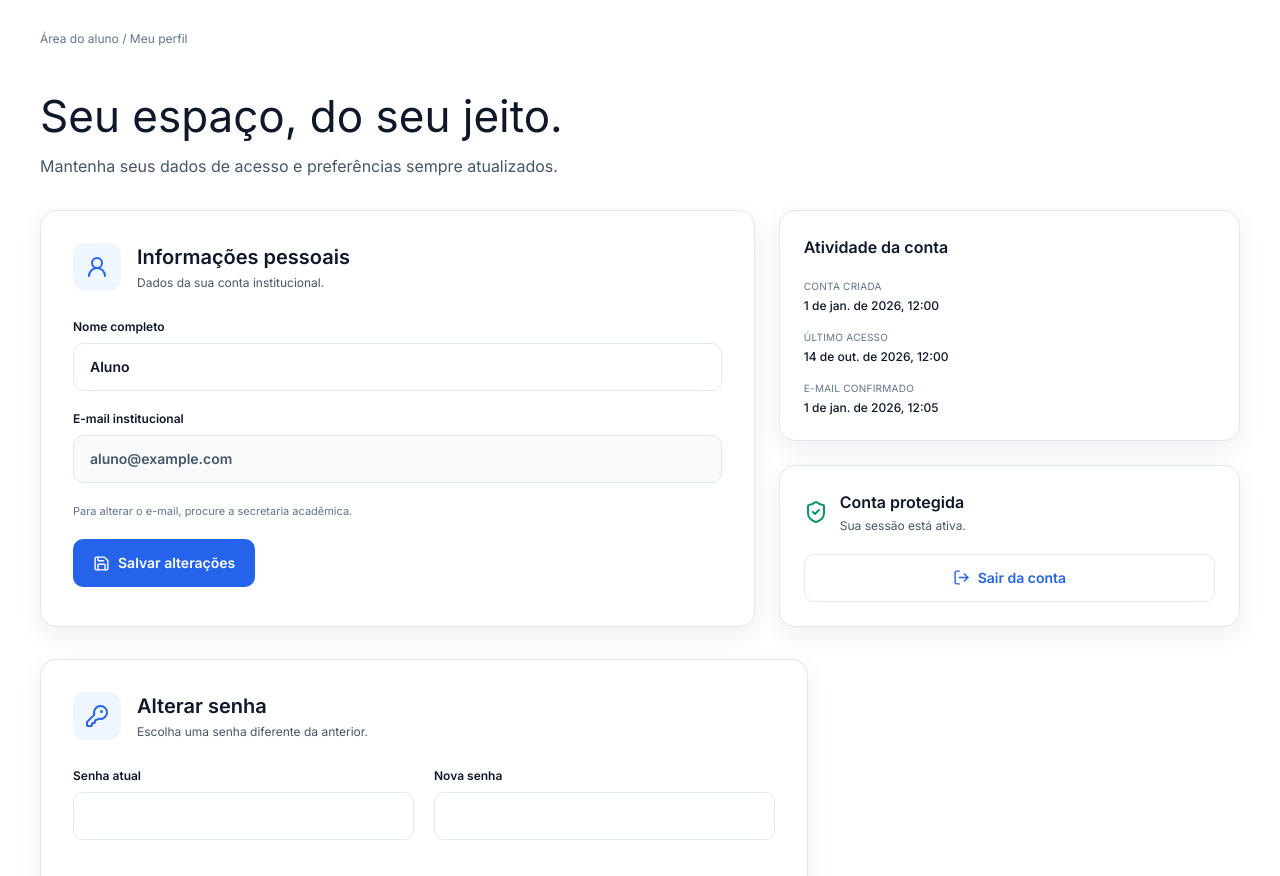
Test: atualiza dados e senha do perfil autenticado
The width and height of the screenshot is (1280, 876).
Replace the text in the field labelled "Nome completo" with "Aluno Atualizado": (397, 367) 73,343 -> 722,391
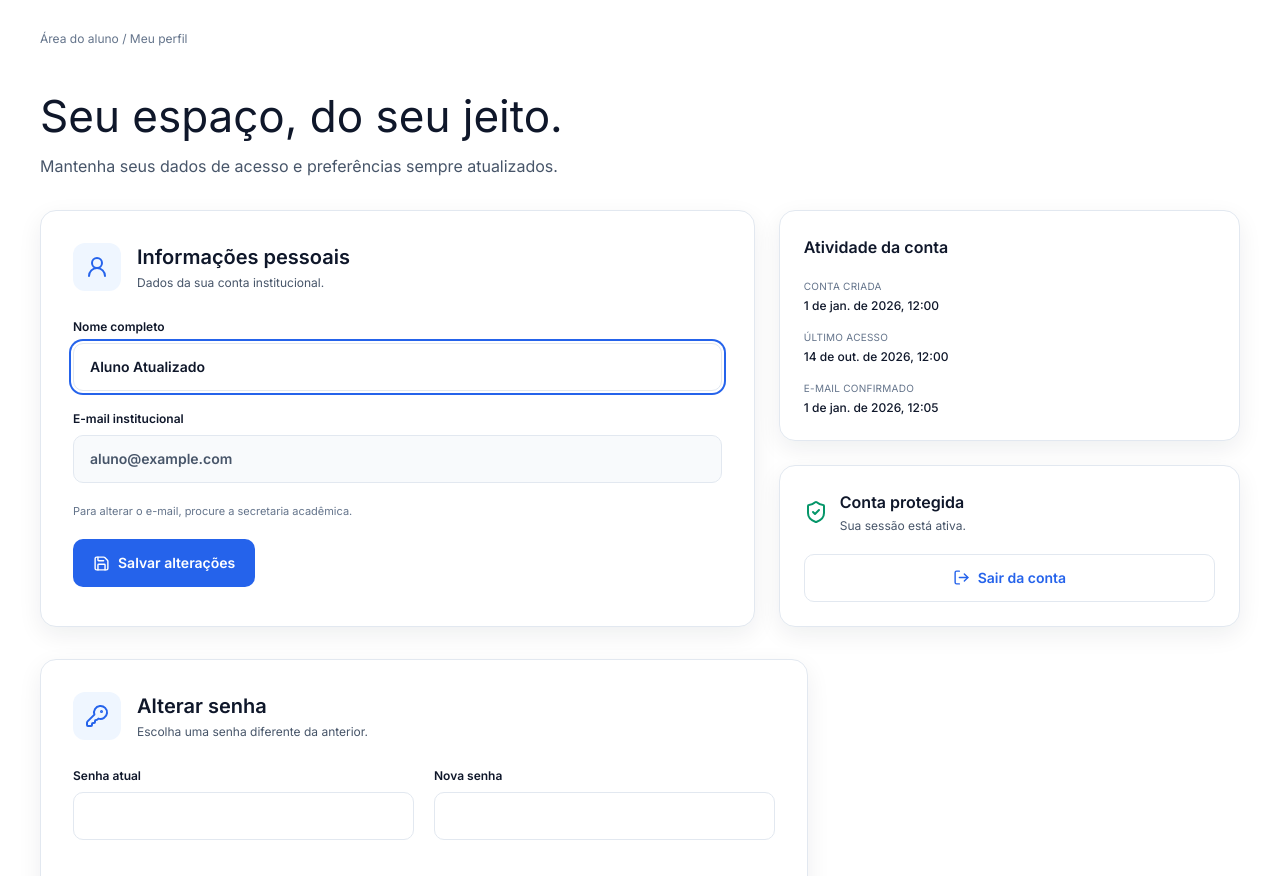
Click the button "Salvar alterações": (164, 563) 73,539 -> 255,587
(page scrolled)
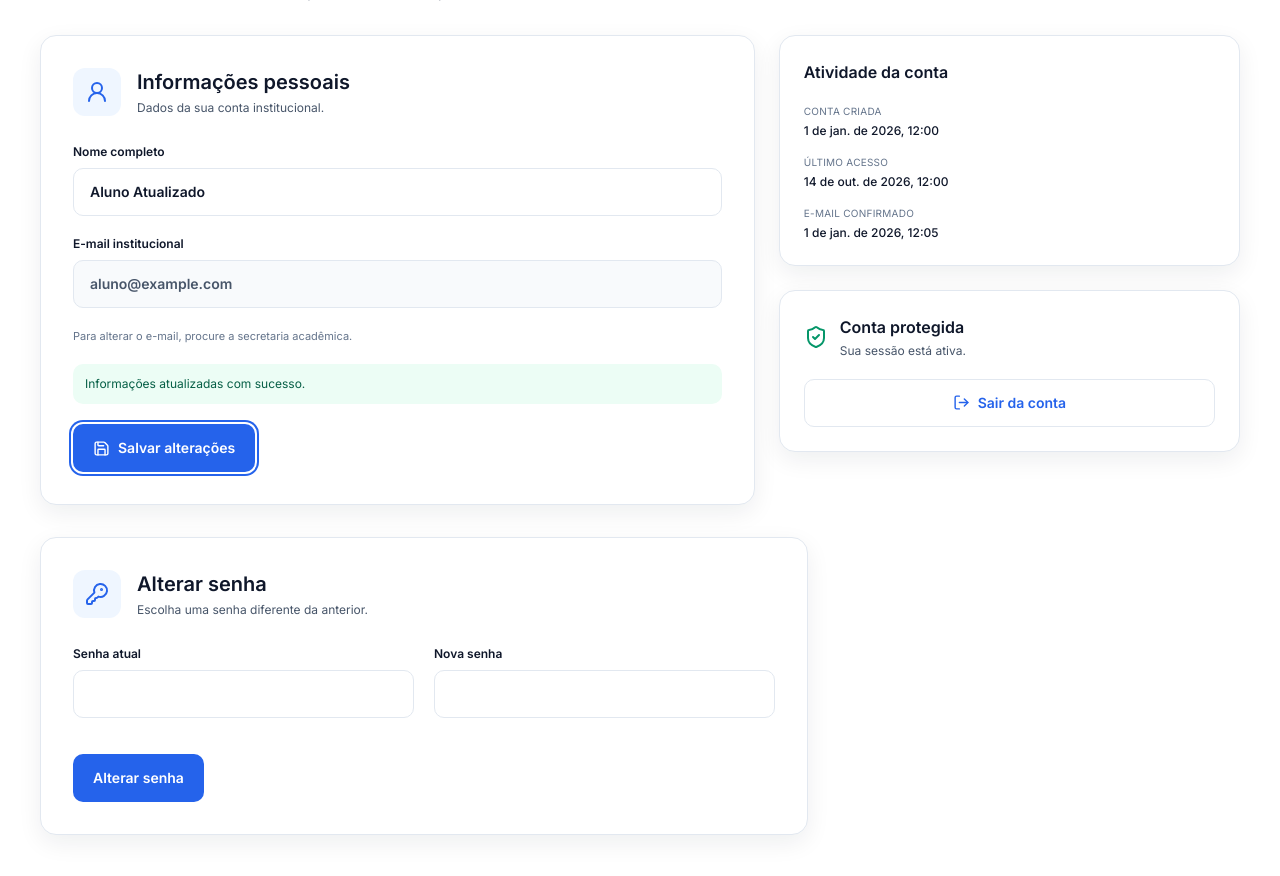
Check: the text "Informações atualizadas com sucesso." is shown, box 73,364 -> 722,404
In the password field labelled "Senha atual": (244, 694) 73,670 -> 414,718, type "senhaAnterior"
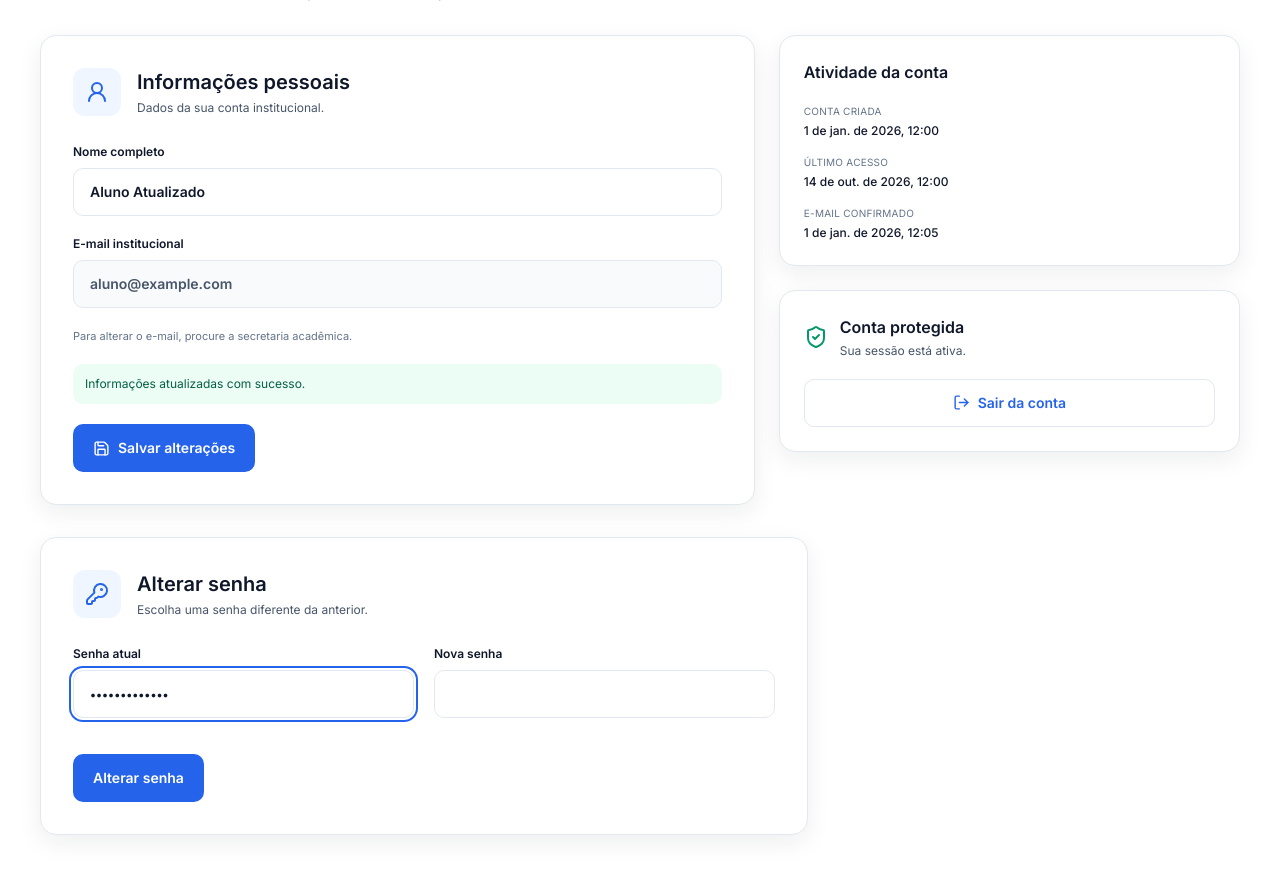
In the password field labelled "Nova senha": (604, 694) 434,670 -> 775,718, type "novaSenha123"
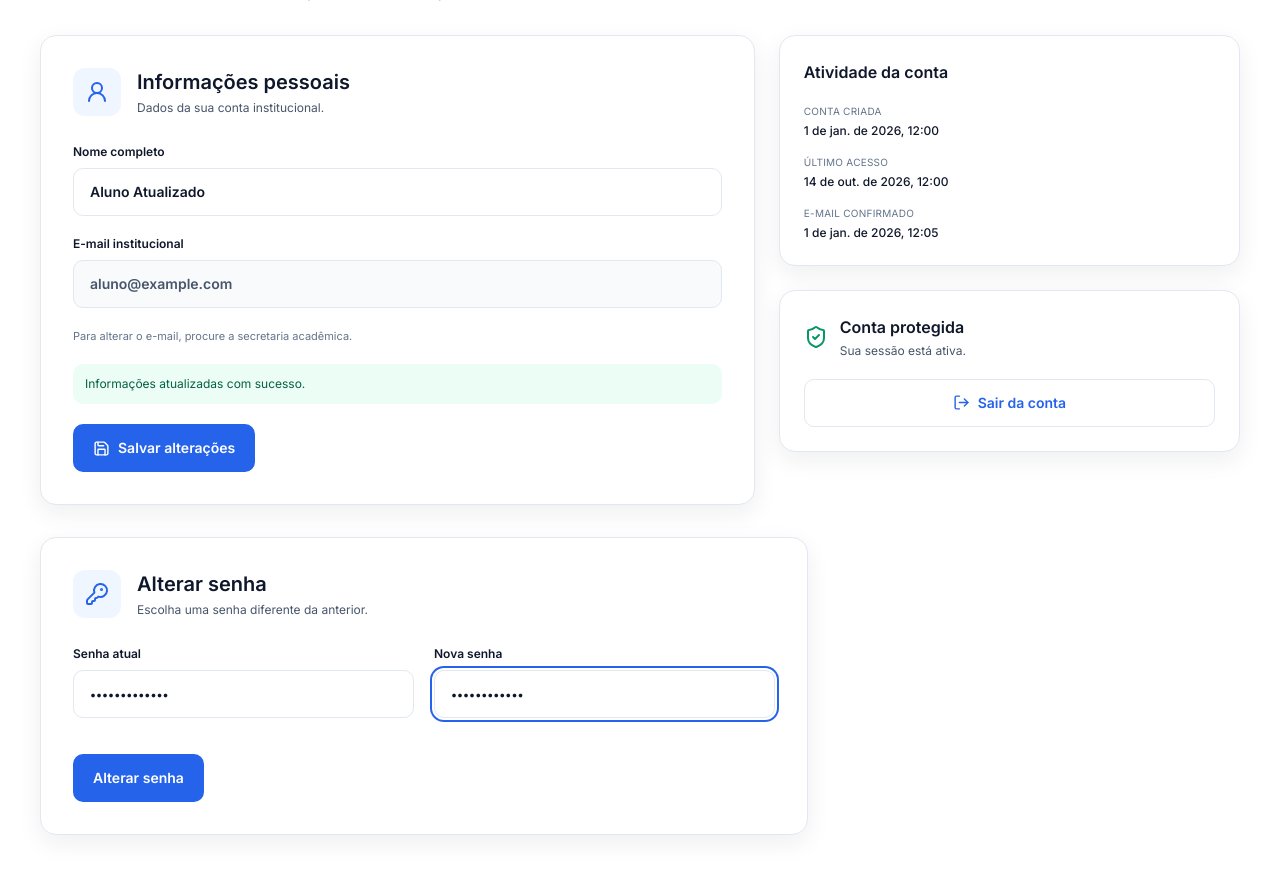
Click the button "Alterar senha": (138, 778) 73,754 -> 204,802
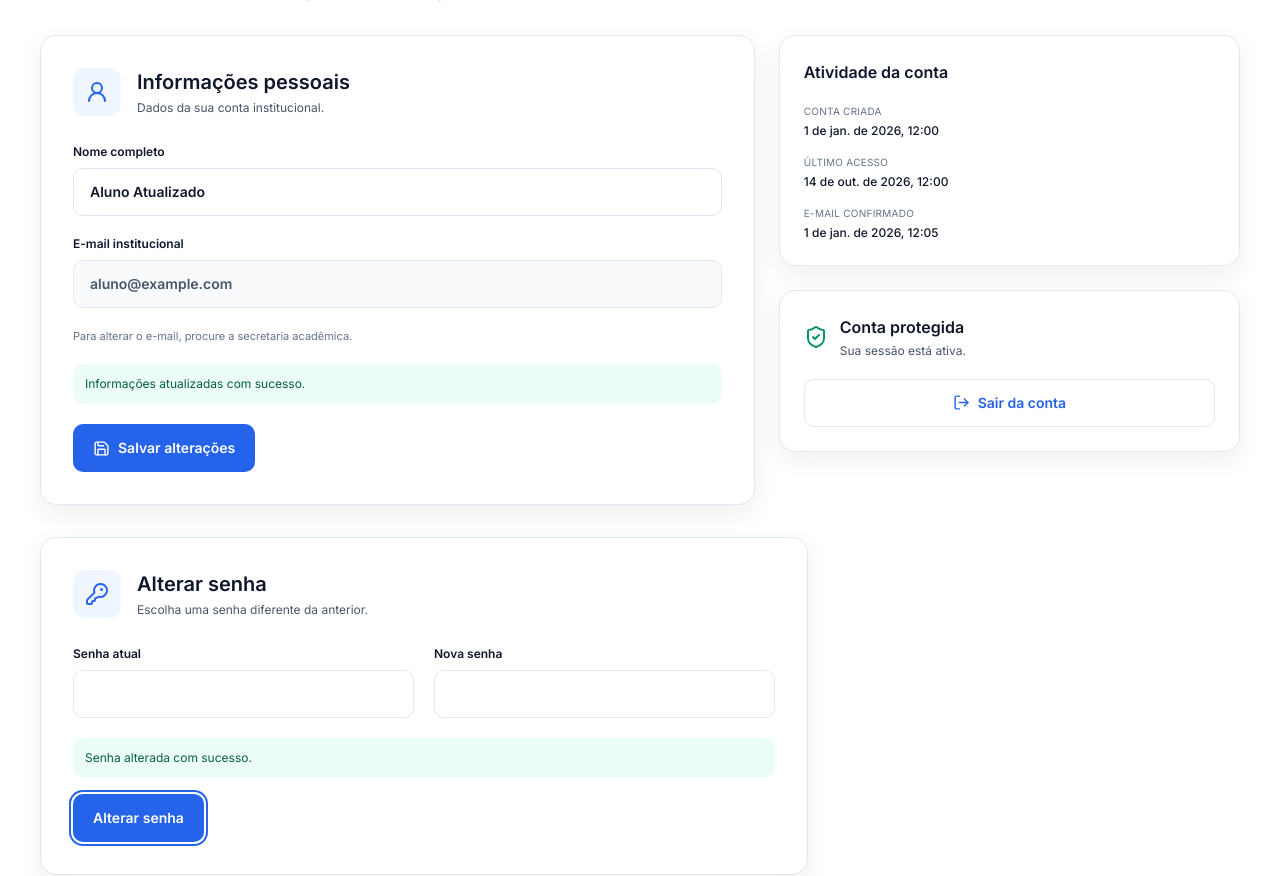
Check: the text "Senha alterada com sucesso." is shown, box 73,738 -> 775,778
